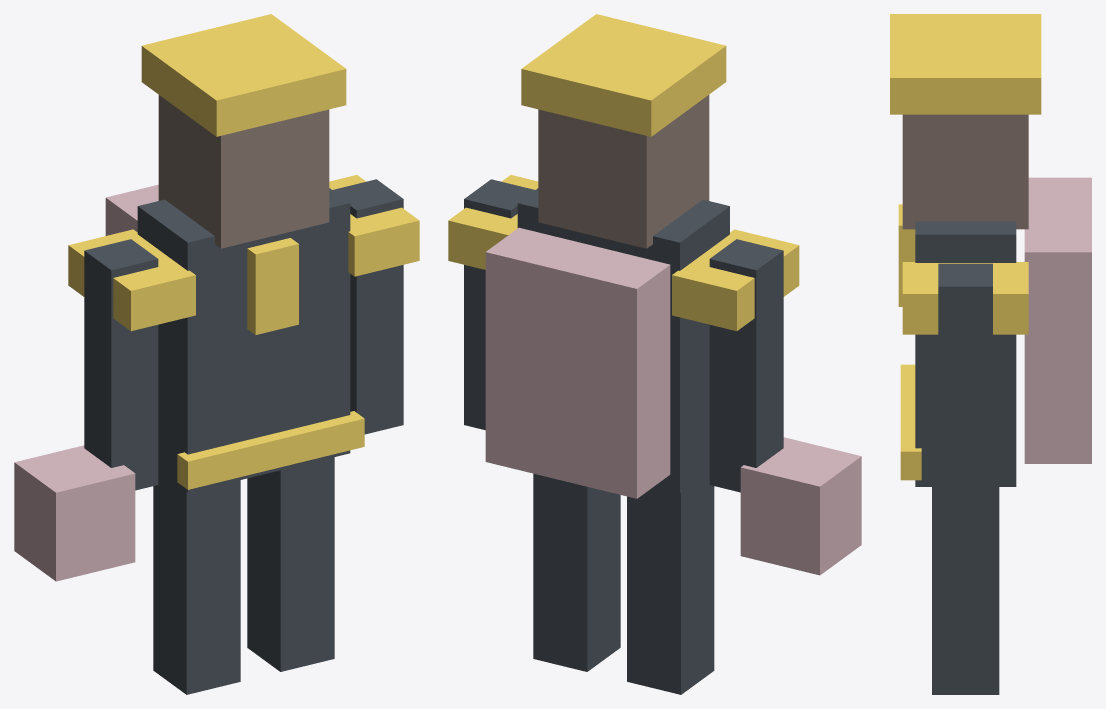
The model's file is 07_soren_riftwalker_navigator_under_crater.glb.
The picture shows the model from 3 angles, left to right: view 1: azimuth 30°, elevation 25°; view 2: azimuth 150°, elevation 25°; view 3: azimuth 270°, elevation 25°; orthographic projection.
Parts seen in each view (by area): view 1: Soren Riftwalker, Navigator under Crater; view 2: Soren Riftwalker, Navigator under Crater; view 3: Soren Riftwalker, Navigator under Crater.
Boxes of the visible parts, bbox=[...] form: Soren Riftwalker, Navigator under Crater: bbox=[14, 14, 419, 694]; Soren Riftwalker, Navigator under Crater: bbox=[448, 14, 861, 694]; Soren Riftwalker, Navigator under Crater: bbox=[890, 14, 1091, 694].
Size of the model in its own units: 1 by 1.62 by 0.484.
